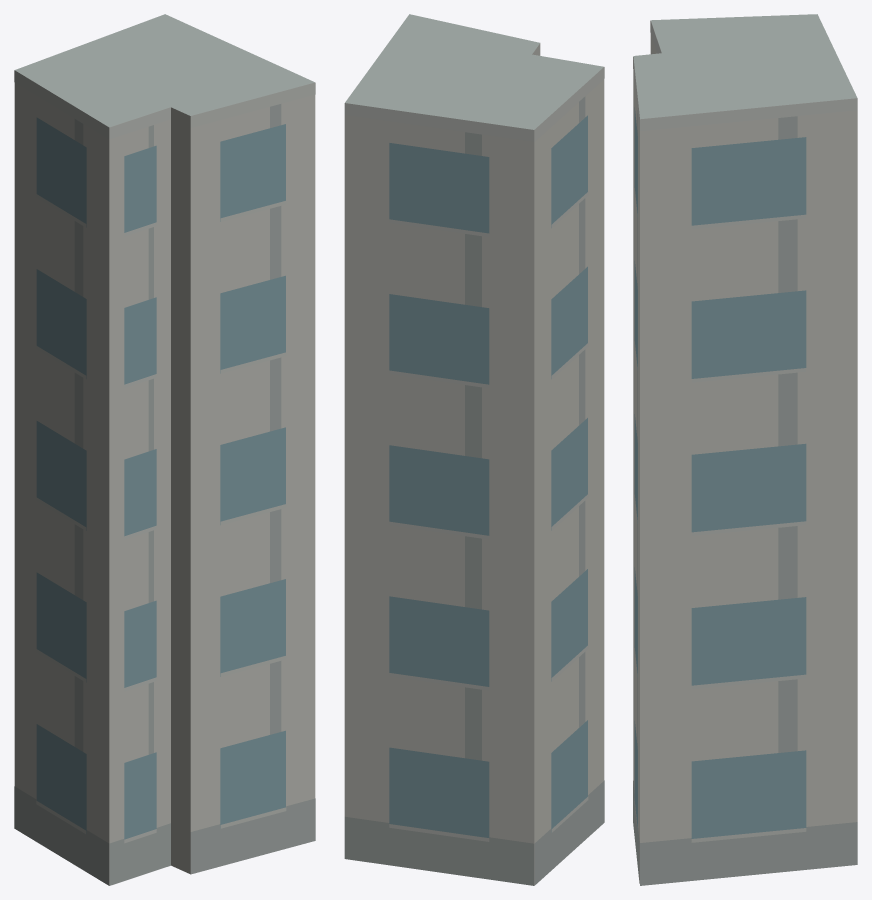
File: survey-upis-32606674.glb
The picture shows the model from 3 angles, left to right: view 1: azimuth 30°, elevation 25°; view 2: azimuth 150°, elevation 25°; view 3: azimuth 270°, elevation 25°; orthographic projection.
Visible parts, largest first — view 1: survey-upis-32606674.tmp; view 2: survey-upis-32606674.tmp; view 3: survey-upis-32606674.tmp.
Part boxes in pixels (bbox=[...]): survey-upis-32606674.tmp: bbox=[14, 14, 315, 885]; survey-upis-32606674.tmp: bbox=[344, 14, 604, 885]; survey-upis-32606674.tmp: bbox=[633, 14, 857, 885].
Bounding box in the file's own units: 4.5 × 15.25 × 4.05.
